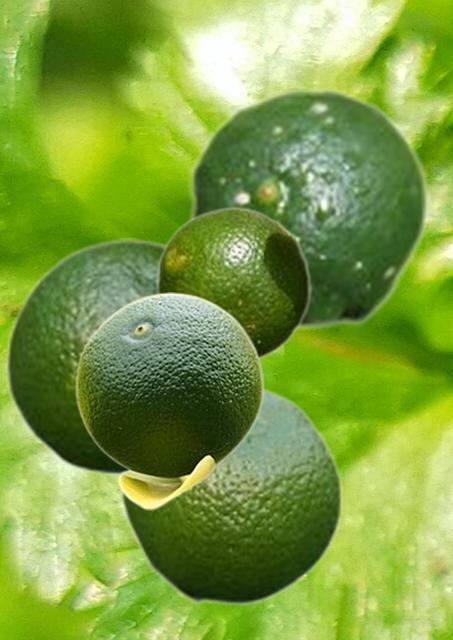calamansi: (188, 86, 430, 331), (119, 383, 343, 605), (75, 292, 263, 509), (5, 238, 167, 476), (155, 206, 311, 362)
